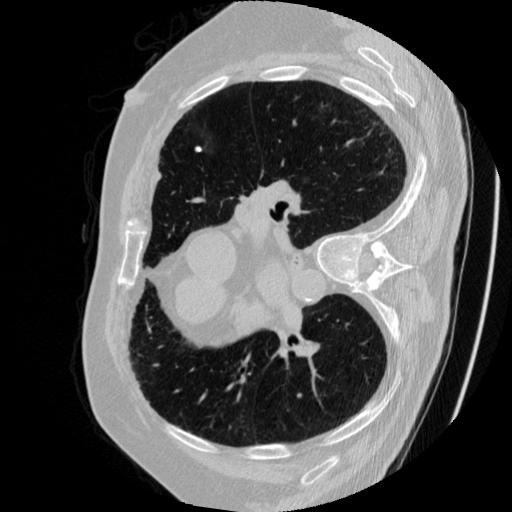nodule: (192, 141, 206, 155)
